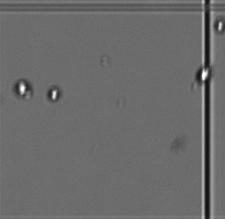Living Cell: (46, 83, 63, 105), (12, 78, 31, 97), (195, 66, 213, 83), (212, 17, 224, 33)
